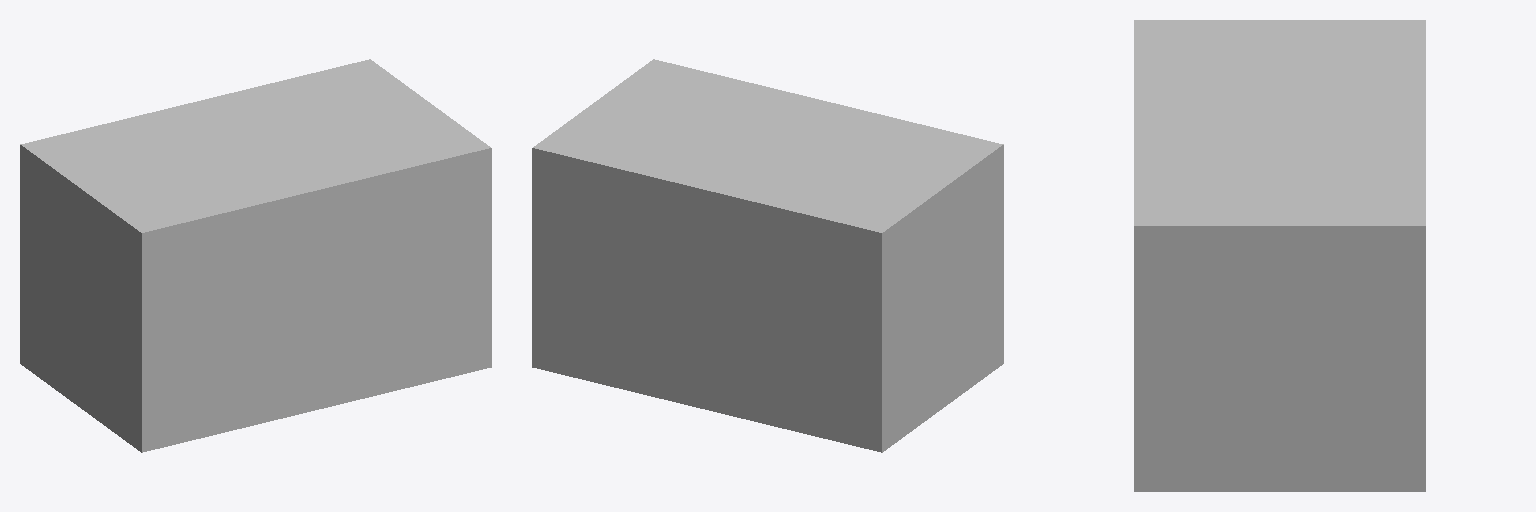
robot.urdf — simple_fold:
<?xml version="1.0"?>
<robot name="simple_fold">
  <material name="face_material">
    <color rgba="0.8 0.8 0.8 1.0"/>
  </material>
  <link name="face_0">
    <visual>
      <geometry>
        <mesh filename="meshes/face_0.stl" scale="1.0 1.0 1.0"/>
      </geometry>
      <material name="face_material"/>
    </visual>
  </link>
  <link name="face_1">
    <visual>
      <geometry>
        <mesh filename="meshes/face_1.stl" scale="1.0 1.0 1.0"/>
      </geometry>
      <material name="face_material"/>
    </visual>
  </link>
  <joint name="joint_0" type="revolute">
    <parent link="face_0"/>
    <child link="face_1"/>
    <origin xyz="2.500000 1.500000 0.000000" rpy="0 0 0"/>
    <axis xyz="-0.000000 -1.000000 0.000000"/>
    <limit effort="10" velocity="3.14" lower="-1.57" upper="1.57"/>
  </joint>
</robot>

--- What the picture shows (computed from the rendered views, not written in the file) ---
3 views of the same robot in one strip: view 1: azimuth 30°, elevation 25°; view 2: azimuth 150°, elevation 25°; view 3: azimuth 270°, elevation 25° (orthographic).
Model simple_fold with 2 links and 1 joints (1 revolute), rooted at face_0, posed all joints at 0.
Visible links, largest first — view 1: face_0, face_1; view 2: face_0, face_1; view 3: face_1, face_0.
Boxes of the visible links, bbox=[...] form: face_0: bbox=[20, 102, 316, 452]; face_1: bbox=[196, 59, 491, 409]; face_0: bbox=[707, 102, 1003, 452]; face_1: bbox=[532, 59, 827, 409]; face_1: bbox=[1134, 123, 1425, 491]; face_0: bbox=[1134, 20, 1425, 122].
Bounding box of the posed robot: 5 × 3 × 3 m (x, y, z).
Meshes: 2 distinct files referenced, 2 mesh visuals loaded (2 binary STL).
